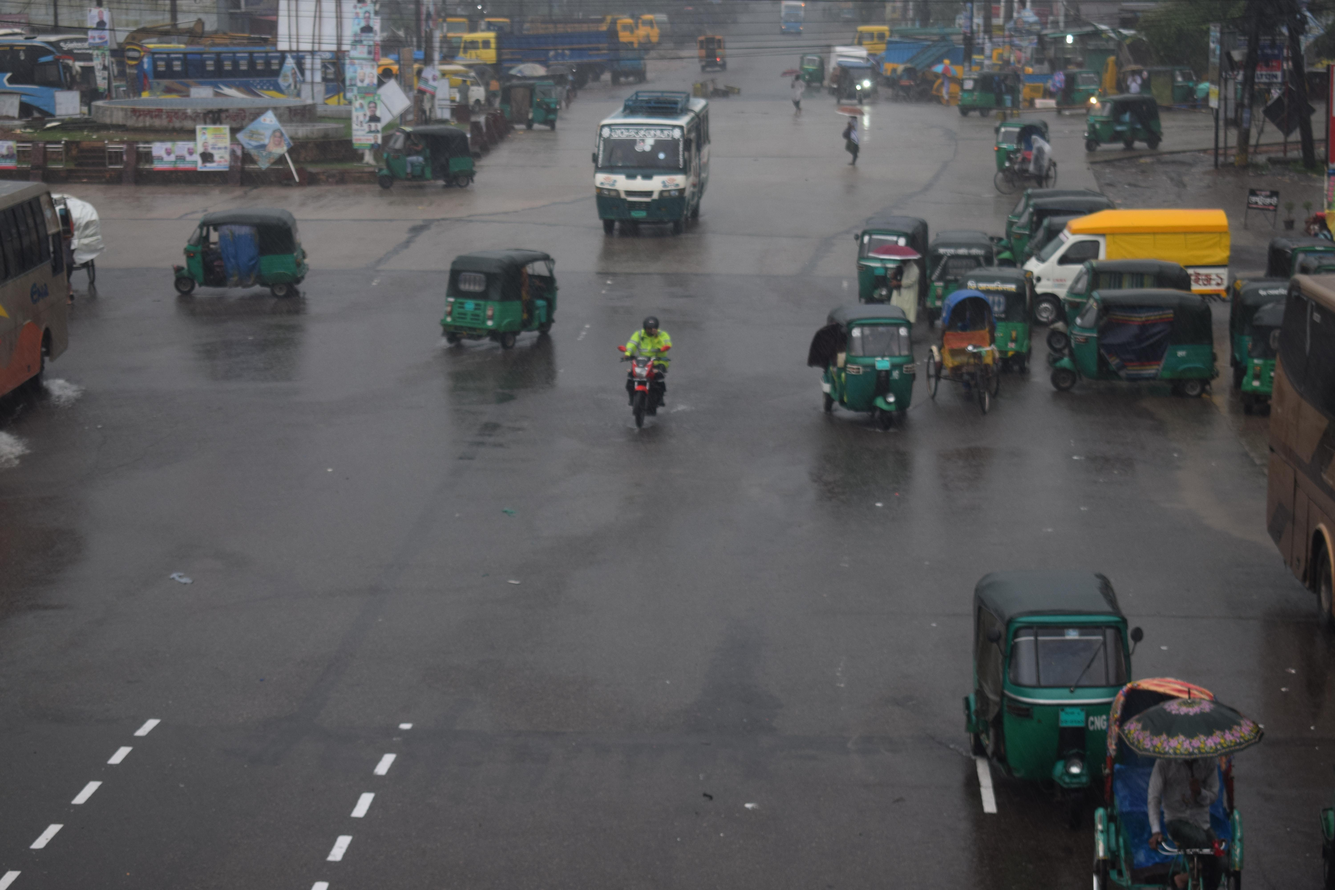Bike: (595, 300, 722, 464)
Bus: (551, 67, 745, 266), (1256, 264, 1335, 649), (124, 25, 396, 129), (110, 21, 367, 131), (0, 156, 97, 412), (0, 30, 103, 157)
Car: (1076, 668, 1288, 890), (1010, 193, 1256, 306), (912, 261, 1005, 435)
Truck: (439, 0, 641, 97)
